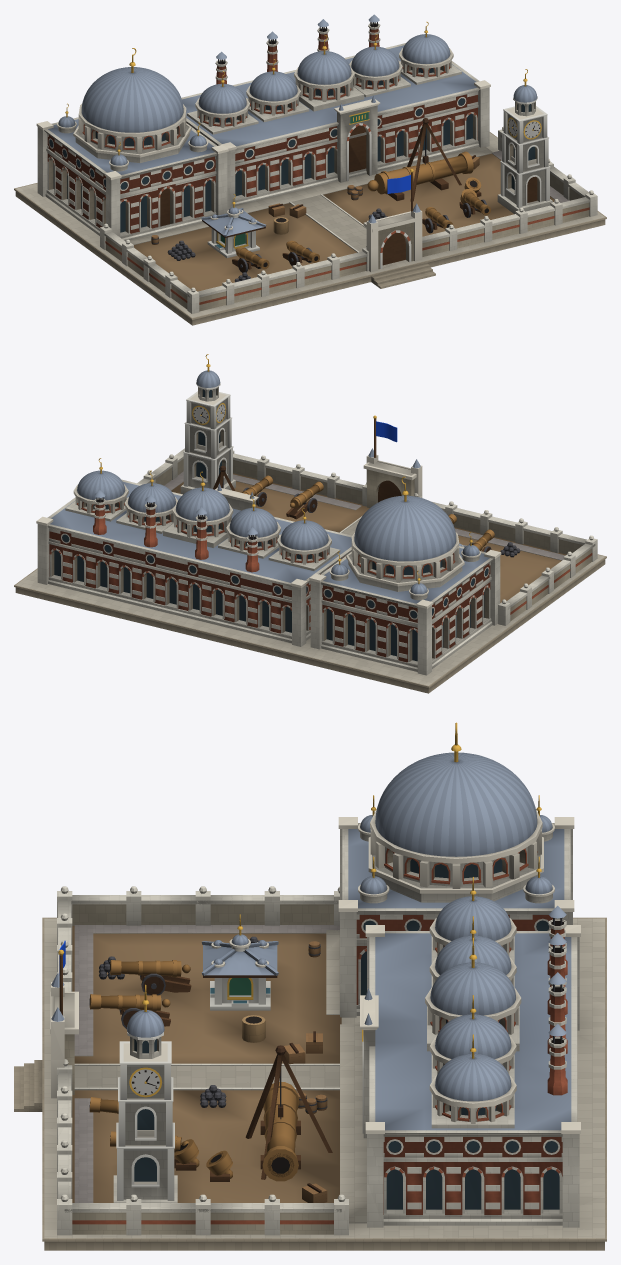
Rendered from lm_tophane.glb.
3 renders of one model, top to bottom at view 1: azimuth 30°, elevation 25°; view 2: azimuth 150°, elevation 25°; view 3: azimuth 270°, elevation 25°, orthographic. The views are drawn at different scales.
Visible parts, largest first — view 1: lm_tophane; view 2: lm_tophane; view 3: lm_tophane.
Boxes of the visible parts, x1=… form: lm_tophane: x1=14, y1=14, x2=606, y2=325; lm_tophane: x1=14, y1=354, x2=606, y2=693; lm_tophane: x1=14, y1=722, x2=606, y2=1250.
Size of the model in its own units: 2.25 by 0.8586 by 1.76.
Materials: 1 (1 with a texture image).
